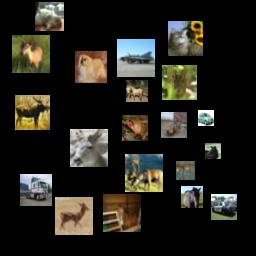airplane: (117, 39, 155, 77)
automobile: (211, 194, 237, 220), (198, 110, 214, 126)
cat: (168, 21, 203, 56), (35, 2, 64, 31)
deer: (55, 197, 93, 235), (125, 154, 163, 192), (12, 35, 50, 73), (70, 129, 108, 167), (162, 65, 197, 100), (15, 95, 50, 130), (176, 161, 195, 180)
dog: (75, 51, 107, 83), (161, 112, 187, 138)
frog: (122, 115, 148, 141)
truck: (20, 174, 52, 206)
